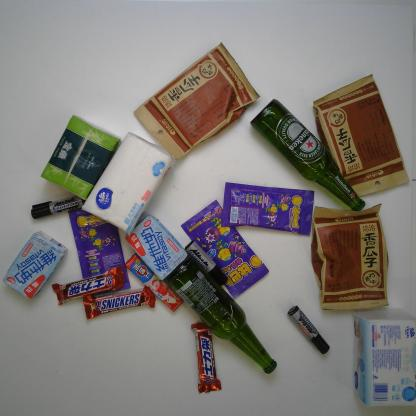Alcohol: (164, 254, 278, 374), (249, 98, 367, 213)
Candy: (180, 199, 270, 301), (67, 207, 131, 297), (220, 182, 316, 236), (124, 252, 184, 312)
Chocolate: (50, 265, 124, 306), (82, 285, 157, 320), (190, 322, 222, 394)
Dried Food: (132, 41, 262, 161), (311, 73, 411, 198), (309, 202, 390, 312)
Milk: (2, 230, 69, 301), (124, 214, 188, 281)
Stationery: (286, 305, 330, 355), (184, 240, 228, 286), (30, 194, 85, 220)
Tissue: (81, 131, 177, 238), (40, 114, 123, 202), (351, 306, 416, 407)
